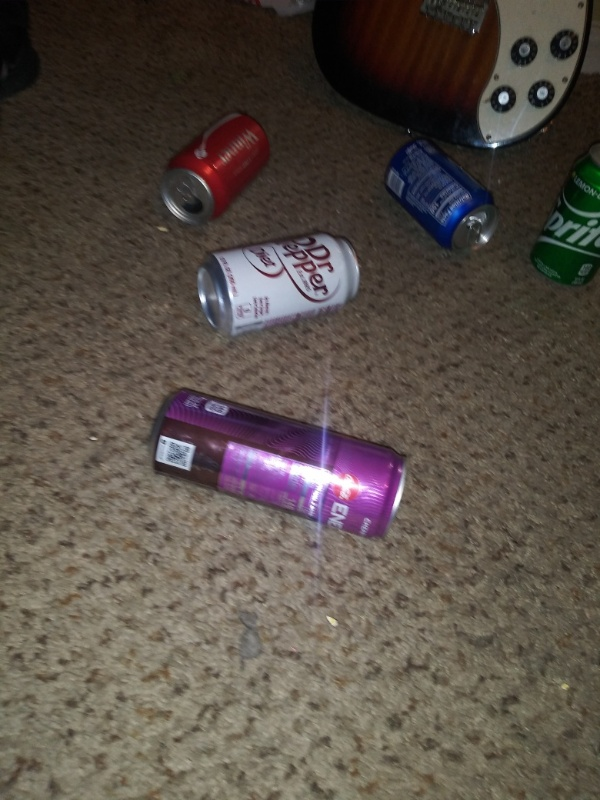can: (145, 387, 414, 543), (195, 230, 364, 337), (377, 137, 502, 254), (157, 108, 272, 226), (530, 139, 600, 292)
